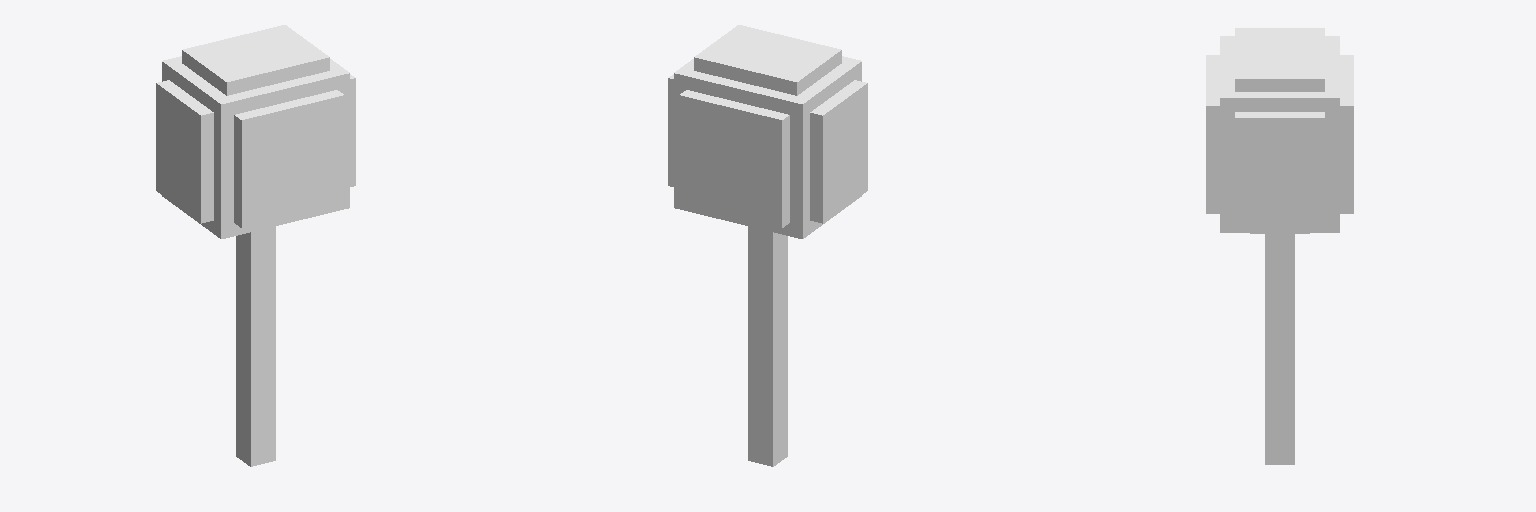
Rendered from Birch_diff.obj.
3 views of the same model, side by side, from view 1: azimuth 30°, elevation 25°; view 2: azimuth 150°, elevation 25°; view 3: azimuth 270°, elevation 25° (orthographic).
Parts seen in each view (by area): view 1: Birch_diff; view 2: Birch_diff; view 3: Birch_diff.
Boxes of the visible parts, box(x1,y1,x2,y2) form: Birch_diff: box(156, 25, 355, 466); Birch_diff: box(668, 25, 867, 466); Birch_diff: box(1206, 28, 1353, 464).
Size of the model in its own units: 12 by 30 by 10.